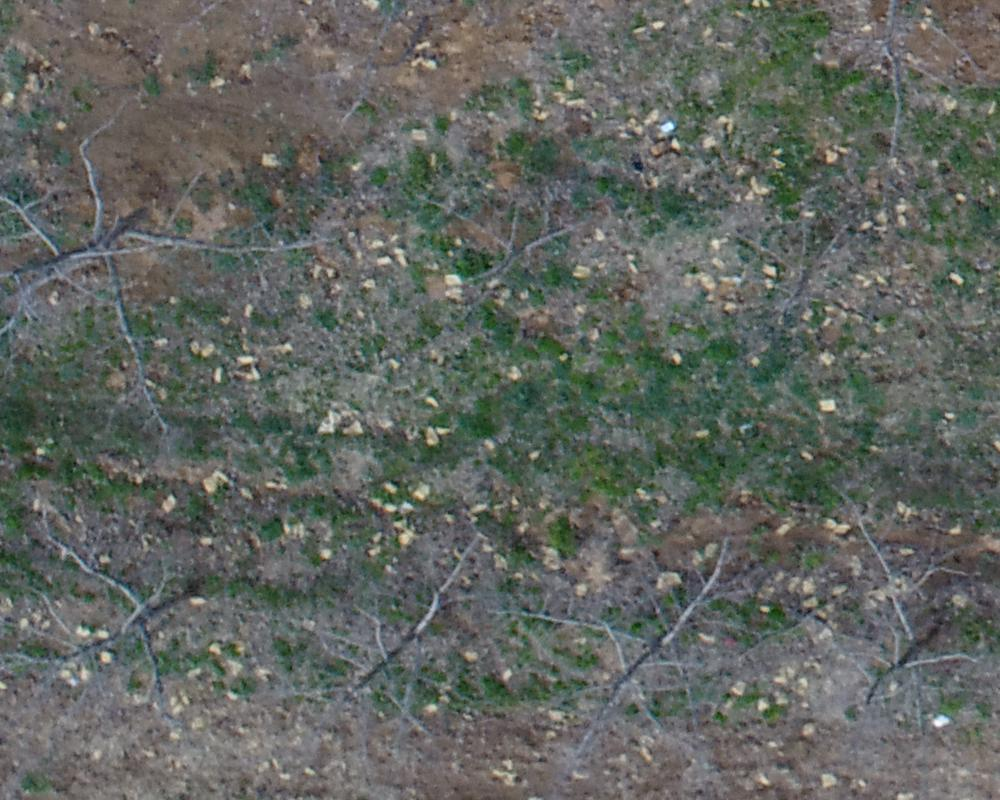apple: (10, 132, 282, 443), (493, 540, 776, 788), (793, 496, 990, 764), (285, 529, 508, 755), (10, 523, 237, 737), (702, 191, 905, 366), (413, 178, 611, 331)
